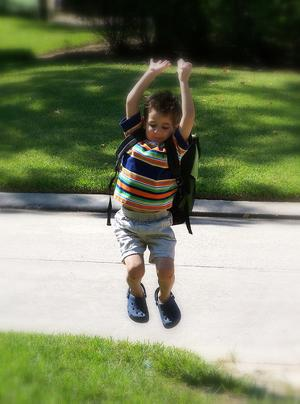person: (114, 56, 196, 331)
